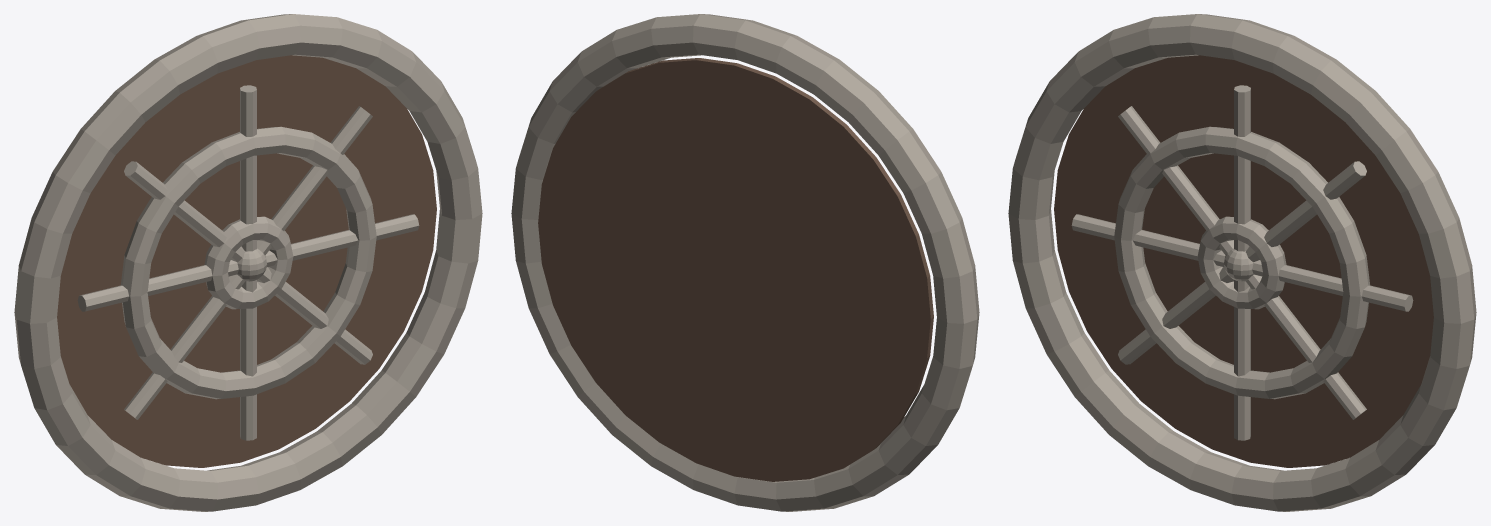
3 views of the same model, side by side, from view 1: azimuth 30°, elevation 25°; view 2: azimuth 150°, elevation 25°; view 3: azimuth 330°, elevation 25° (orthographic).
Visible parts, largest first — view 1: roseWindow; view 2: roseWindow; view 3: roseWindow.
Part boxes in pixels (x1,y1,x2,y2): roseWindow: (14,14,482,511); roseWindow: (511,14,979,511); roseWindow: (1008,14,1476,511).
Size of the model in its own units: 1.7 by 1.7 by 0.14.
